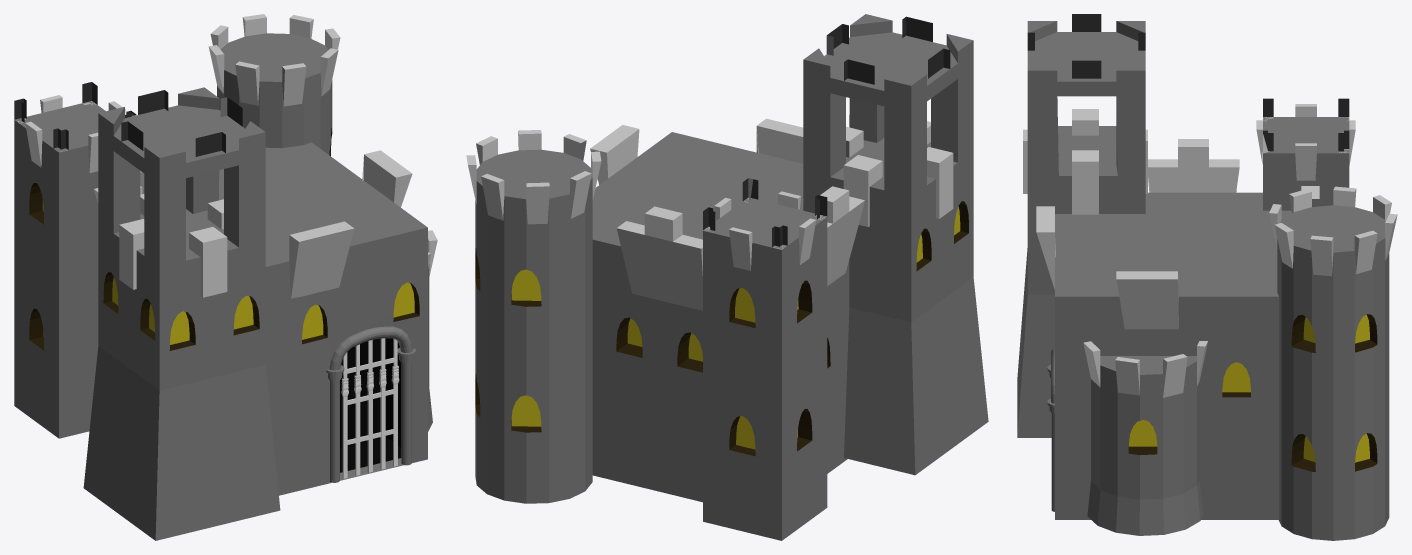
The model's file is castle.fbx.
3 views of the same model, side by side, from view 1: azimuth 30°, elevation 25°; view 2: azimuth 150°, elevation 25°; view 3: azimuth 270°, elevation 25° (orthographic). The views are drawn at different scales.
Parts seen in each view (by area): view 1: Cube.006, Cylinder.002, Cube.002, Cylinder.001, Cube, Cube.007, Cube.005, Cube.004, Cube.001, Cylinder, Cube.003; view 2: Cube.006, Cylinder.002, Cylinder.001, Cube.002; view 3: Cylinder.002, Cylinder.001, Cube.006, Cylinder, Cube.002.
Boxes of the visible parts, box(x1,y1,x2,y2) form: Cube.006: box(83, 87, 280, 540); Cylinder.002: box(94, 142, 427, 495); Cube.002: box(14, 82, 136, 438); Cylinder.001: box(208, 14, 340, 156); Cube: box(340, 338, 401, 472); Cube.007: box(379, 338, 386, 469); Cube.005: box(354, 344, 361, 475); Cube.004: box(366, 340, 373, 472); Cube.001: box(341, 352, 348, 478); Cylinder: box(428, 230, 437, 431); Cube.003: box(391, 339, 399, 466); Cube.006: box(803, 14, 988, 475); Cylinder.002: box(590, 118, 864, 502); Cylinder.001: box(466, 130, 601, 503); Cube.002: box(703, 178, 827, 540); Cylinder.002: box(1036, 139, 1319, 519); Cylinder.001: box(1269, 186, 1397, 540); Cube.006: box(1017, 14, 1147, 437); Cylinder: box(1083, 341, 1207, 535); Cube.002: box(1256, 98, 1355, 210).
Size of the model in its own units: 676 by 738 by 679.
